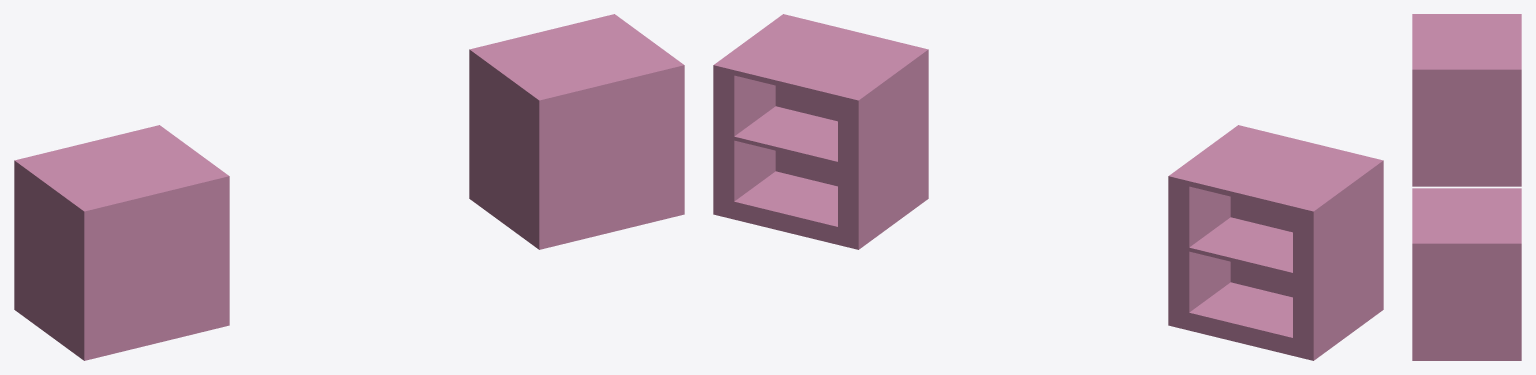
Rendered from Mueble.obj.
3 renders of one model, left to right at view 1: azimuth 30°, elevation 25°; view 2: azimuth 150°, elevation 25°; view 3: azimuth 270°, elevation 25°, orthographic. The views are drawn at different scales.
Visible parts, largest first — view 1: Mueble:E_Moda_EndTable, Mueble1:E_Moda_EndTable group80; view 2: Mueble:E_Moda_EndTable, Mueble1:E_Moda_EndTable group80; view 3: Mueble:E_Moda_EndTable, Mueble1:E_Moda_EndTable group80.
Boxes of the visible parts, x1,y1,x2,y2 form: Mueble:E_Moda_EndTable: (14, 125, 229, 360); Mueble1:E_Moda_EndTable group80: (469, 14, 684, 249); Mueble:E_Moda_EndTable: (1168, 125, 1383, 360); Mueble1:E_Moda_EndTable group80: (713, 14, 928, 249); Mueble:E_Moda_EndTable: (1412, 14, 1521, 186); Mueble1:E_Moda_EndTable group80: (1412, 188, 1521, 360).
Size of the model in its own units: 1.64 by 0.3895 by 0.3301.
2 materials, 2 textured.
